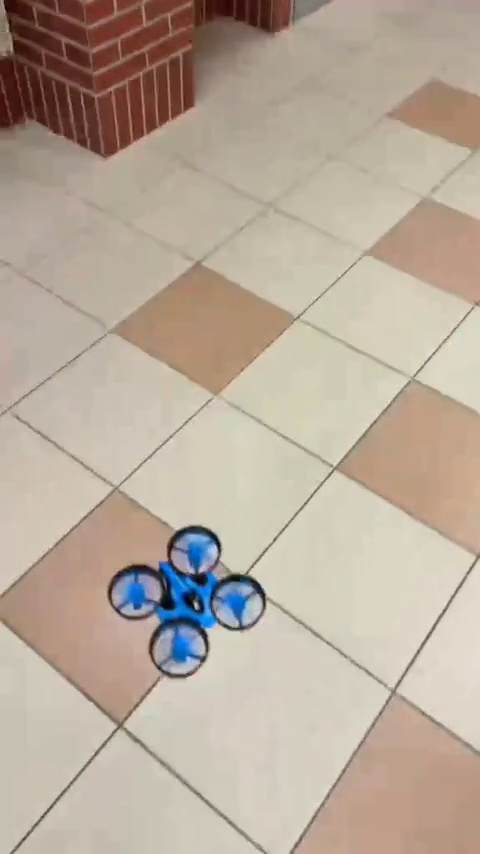drone: (107, 529, 268, 674)
